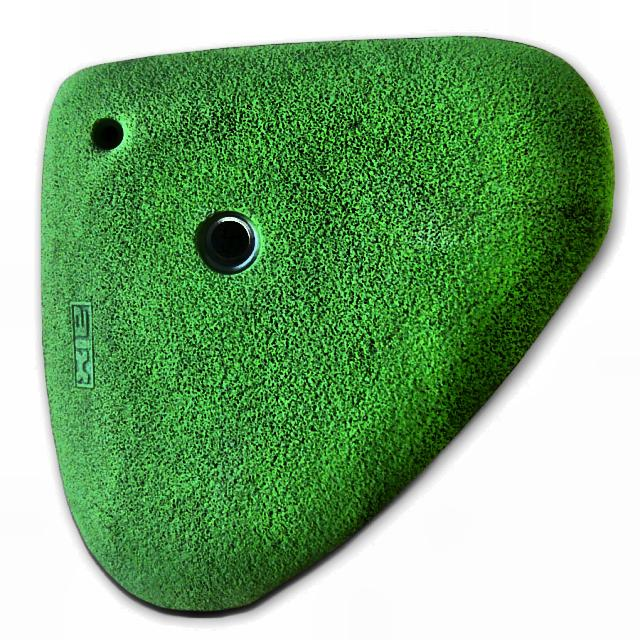Hold: (39, 34, 616, 612)
